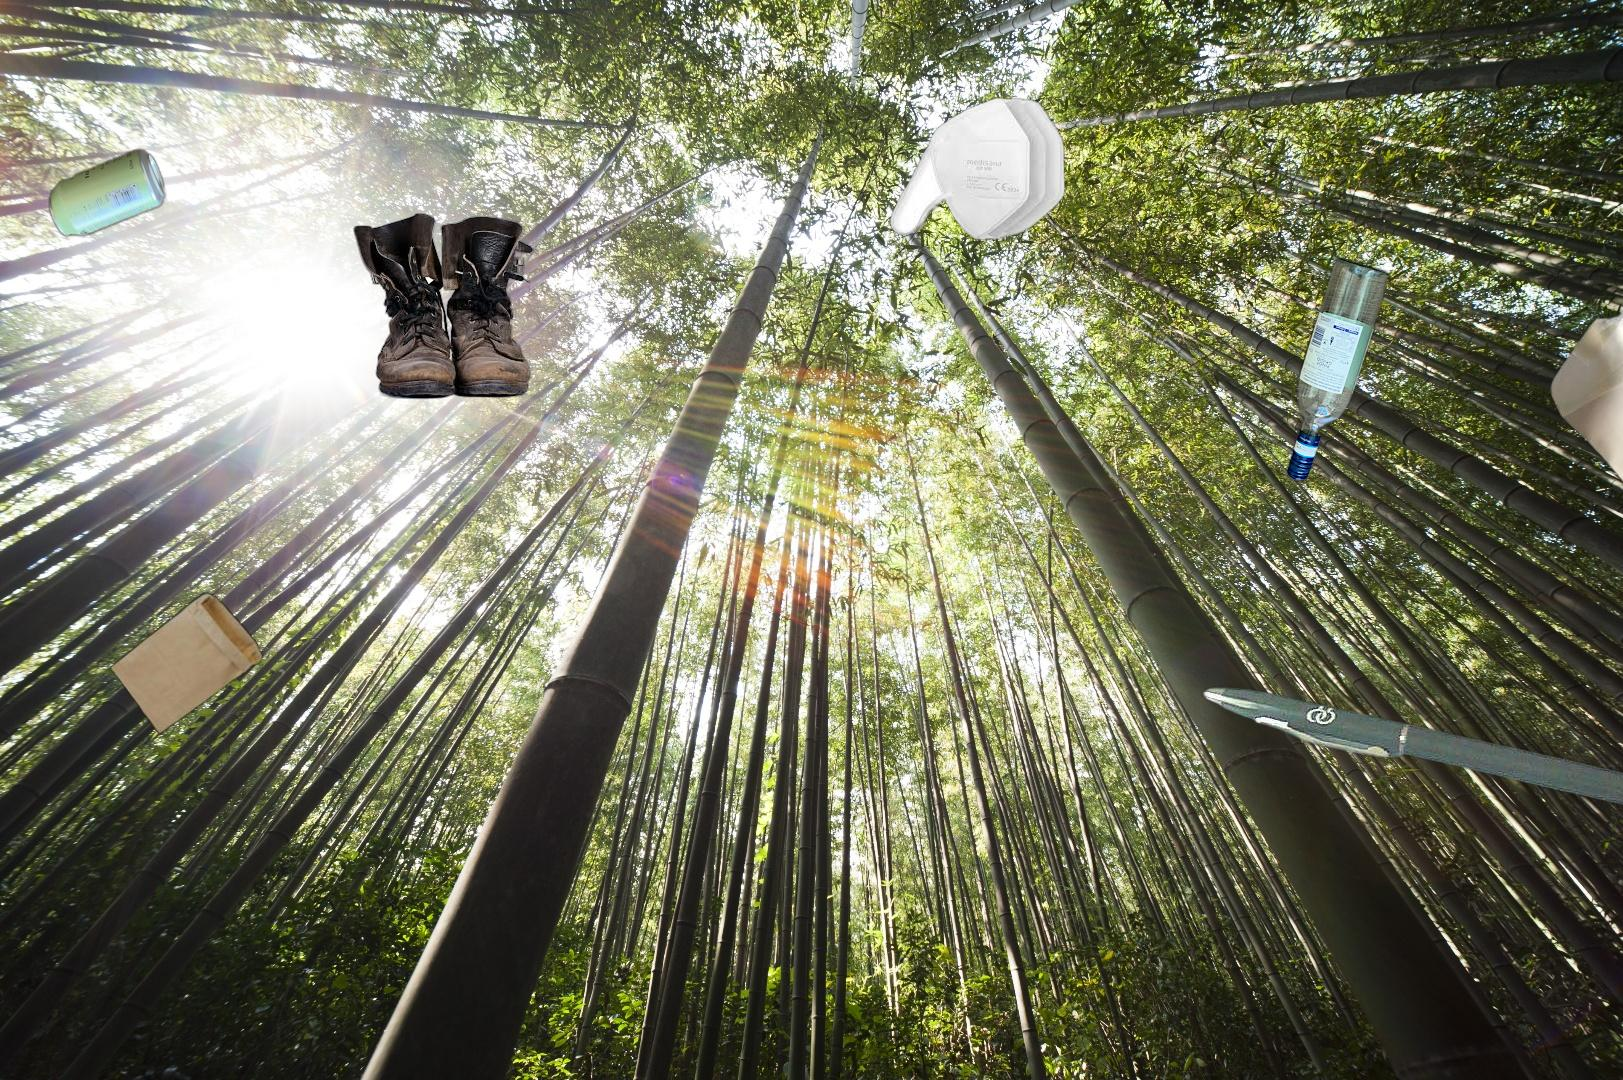glass: (1283, 251, 1392, 487)
metal-cans: (1530, 832, 1623, 1080), (45, 143, 169, 242)
paper: (1547, 160, 1623, 544)
paper-bag: (108, 589, 266, 736)
penholder: (1198, 685, 1623, 820)
shoes: (351, 210, 537, 403)
trash: (888, 95, 1068, 243)
